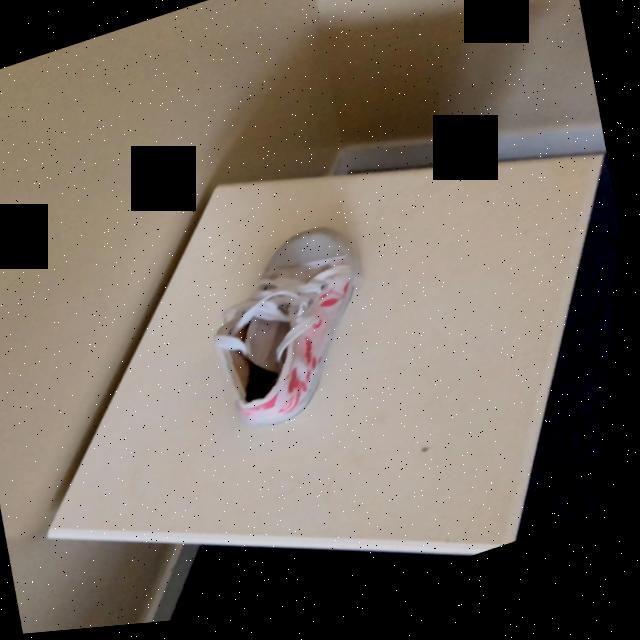shoe: (219, 233, 365, 433)
